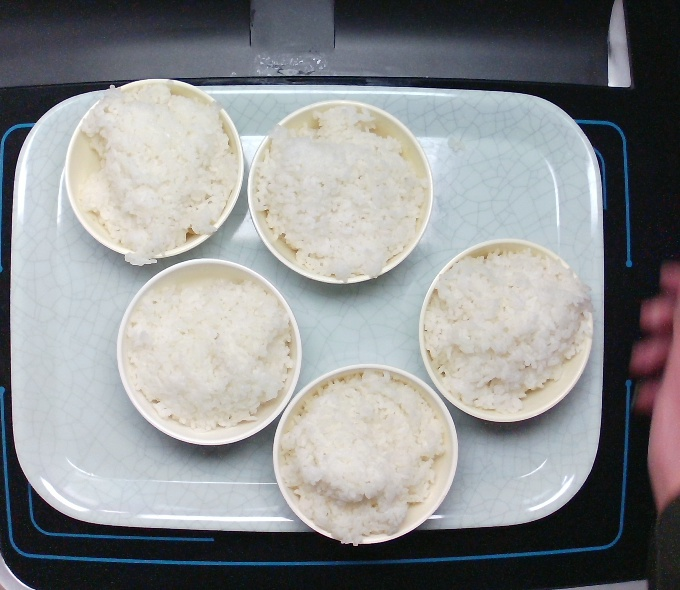wcq-MiFan: (57, 87, 235, 257), (115, 268, 293, 438), (254, 106, 431, 276), (275, 377, 452, 547), (414, 247, 591, 417)
